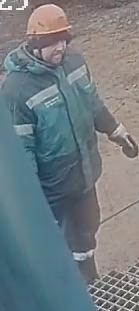gloves: (107, 122, 139, 159)
helmet: (25, 3, 72, 35)
vest: (4, 46, 103, 192)
